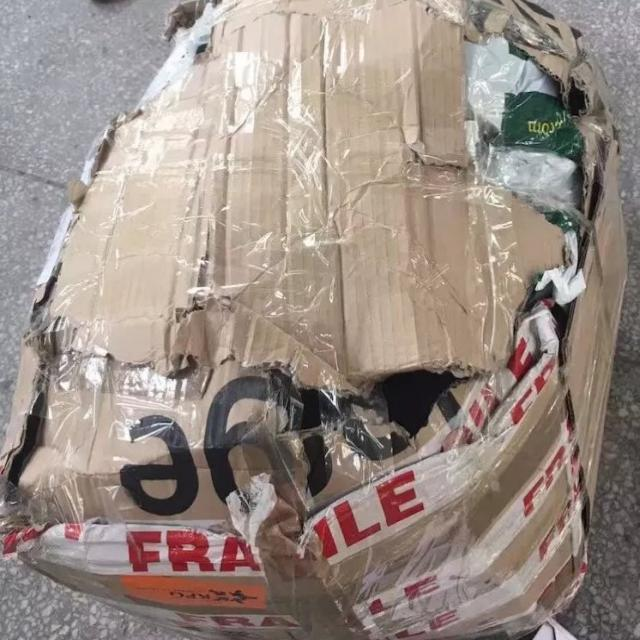damaged: (290, 367, 503, 468)
